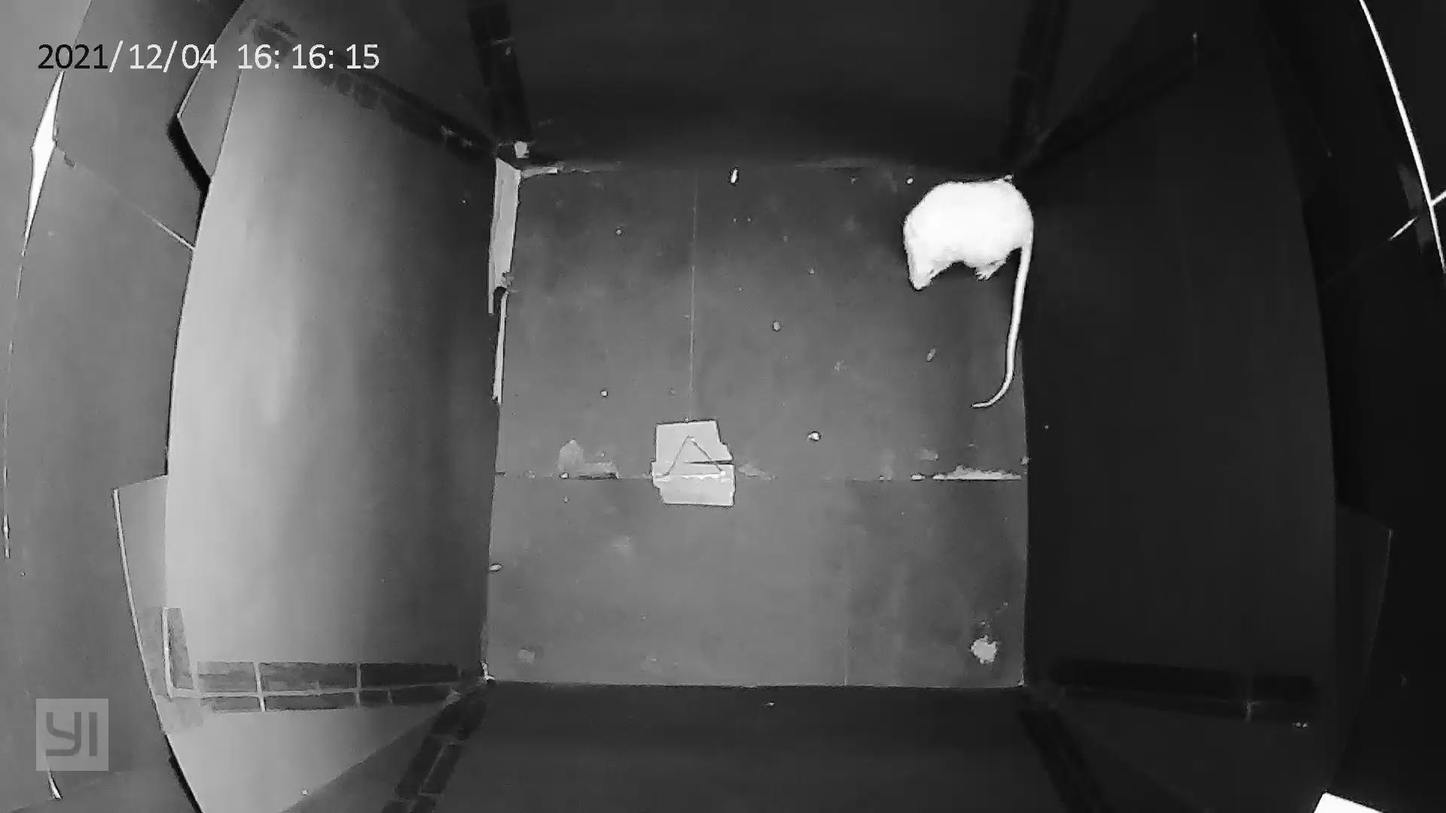rat: (887, 136, 1045, 414)
